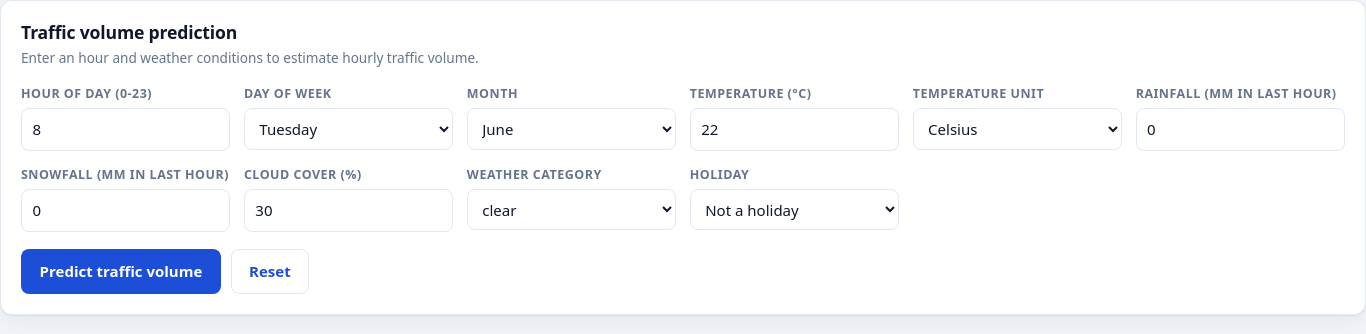
PredictionForm › resets the form to defaults
Replace the text in the number field labelled "Hour of day (0-23)" with "3": {"x": 126, "y": 130} [21, 108, 230, 151]
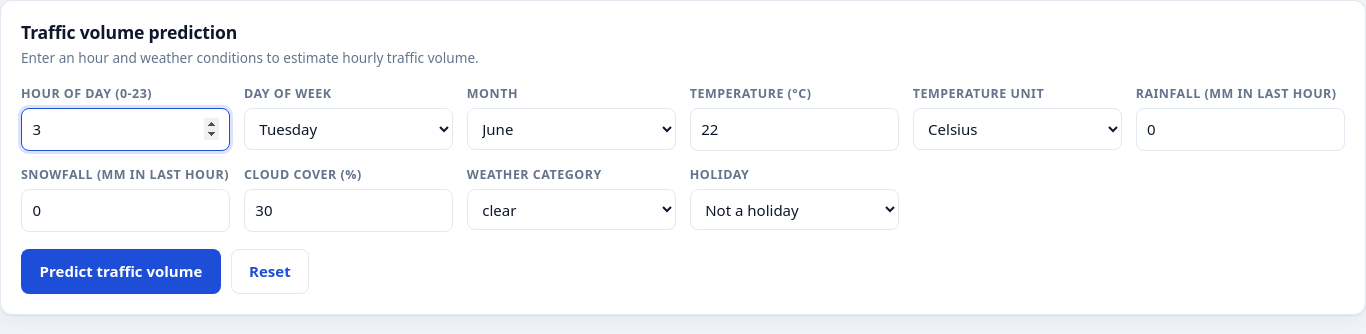
Click the button "Reset": {"x": 270, "y": 271} [230, 249, 309, 294]
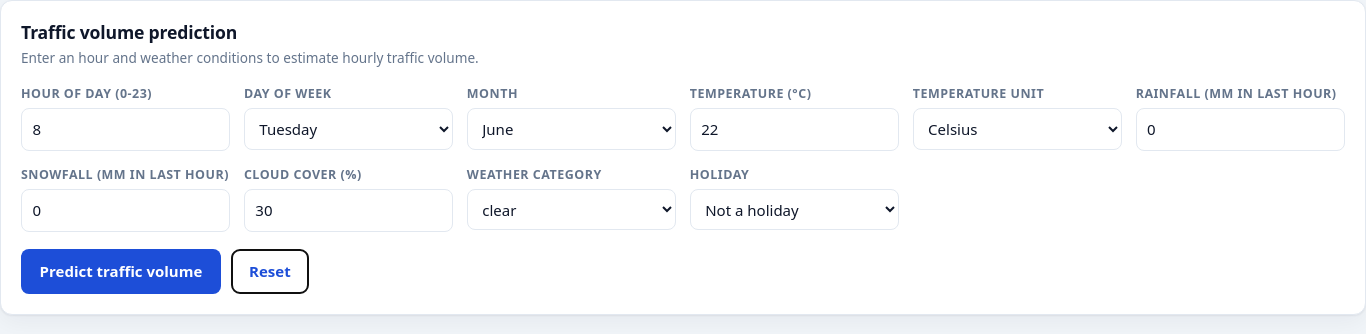
Check: the number field labelled "Hour of day (0-23)" holds "8", box [21, 108, 230, 151]
